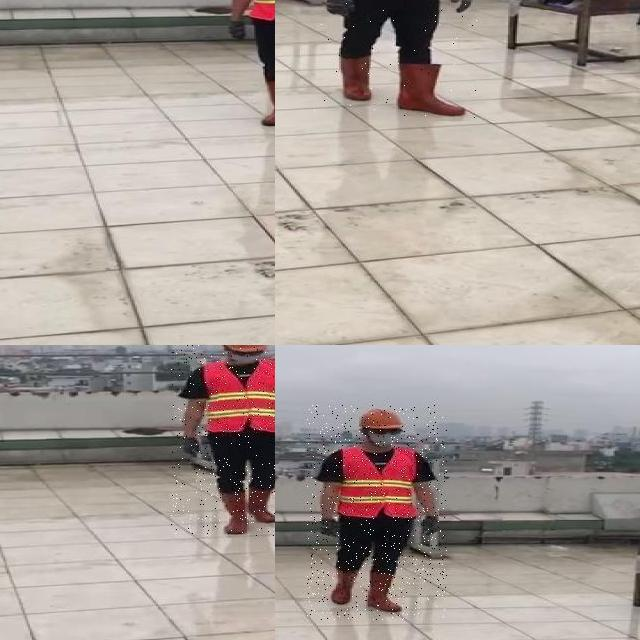BOOTS: (394, 61, 469, 114), (338, 56, 373, 100), (219, 490, 249, 534), (368, 569, 398, 611), (245, 487, 275, 523), (333, 566, 358, 604), (261, 81, 275, 124)
GLASS: (223, 348, 267, 357), (367, 428, 404, 436)
GLOVE: (179, 433, 204, 463), (326, 0, 357, 18), (320, 514, 341, 537), (420, 514, 441, 535), (228, 18, 247, 39), (451, 0, 476, 14)
HELMET: (355, 407, 408, 431)
VEST: (340, 447, 420, 517), (203, 359, 275, 434)
